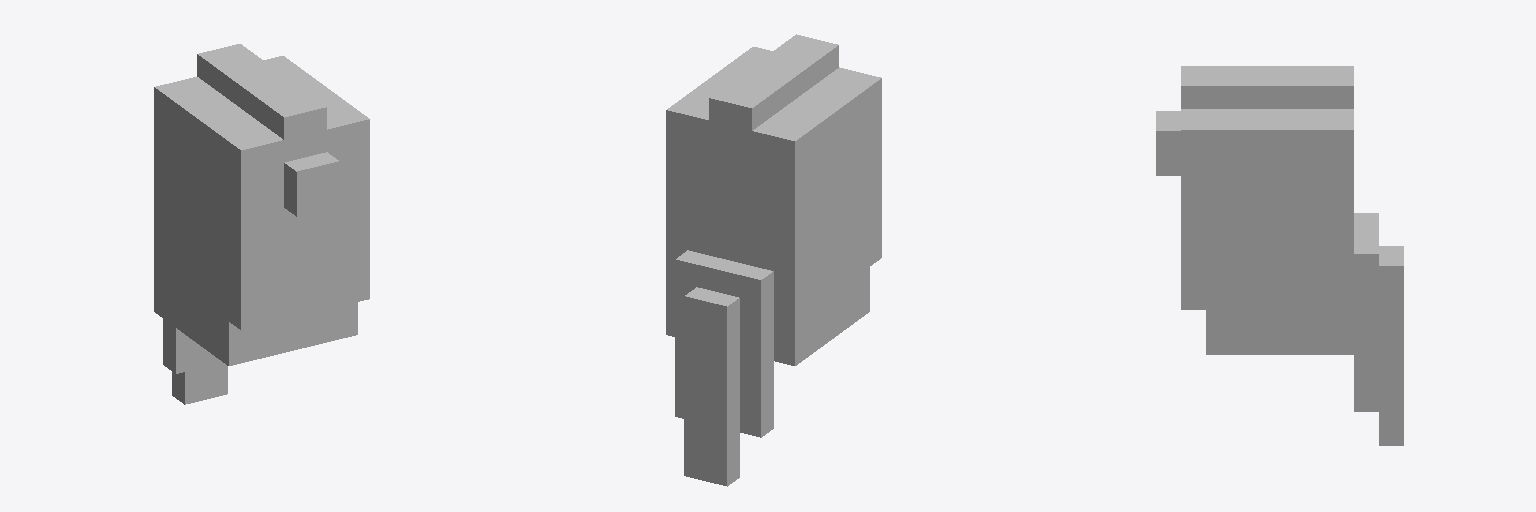
The model's file is Bluebird.obj.
3 renders of one model, left to right at view 1: azimuth 30°, elevation 25°; view 2: azimuth 150°, elevation 25°; view 3: azimuth 270°, elevation 25°, orthographic.
Visible parts, largest first — view 1: Bluebird; view 2: Bluebird; view 3: Bluebird.
Part boxes in pixels (left/top/right/bottom): Bluebird: left=154, top=44, right=369, bottom=404; Bluebird: left=666, top=34, right=881, bottom=486; Bluebird: left=1156, top=66, right=1403, bottom=445.
Bounding box in the file's own units: 0.6 × 1.6 × 1.